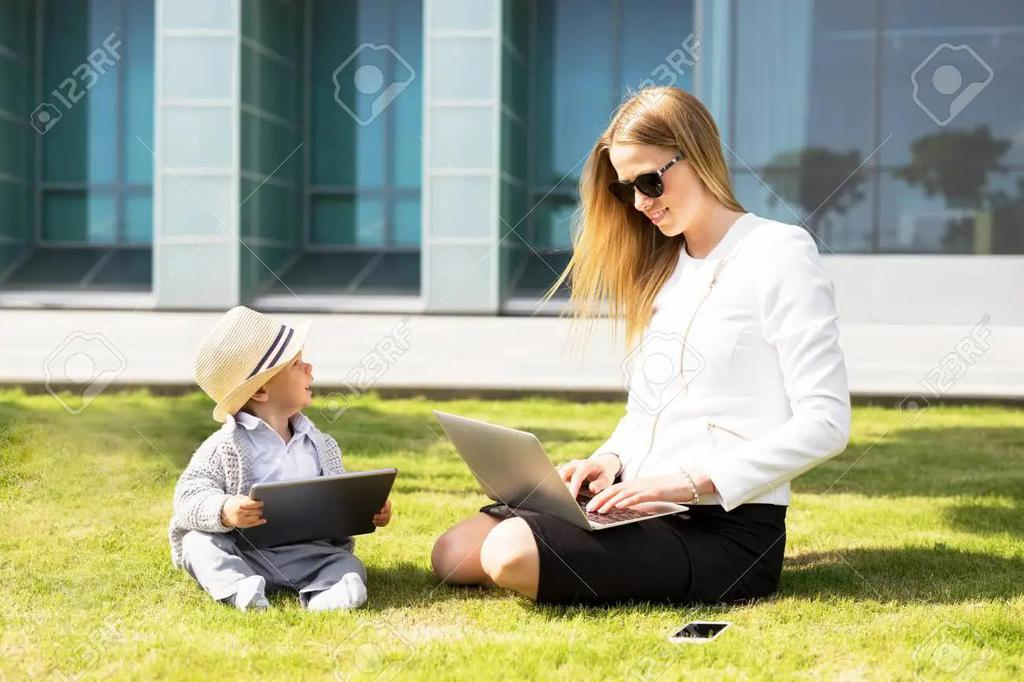child: (155, 300, 409, 619)
